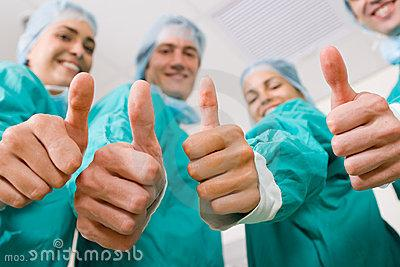thumbsup: (71, 77, 168, 253), (0, 70, 95, 213), (318, 43, 399, 192), (182, 76, 262, 218)
